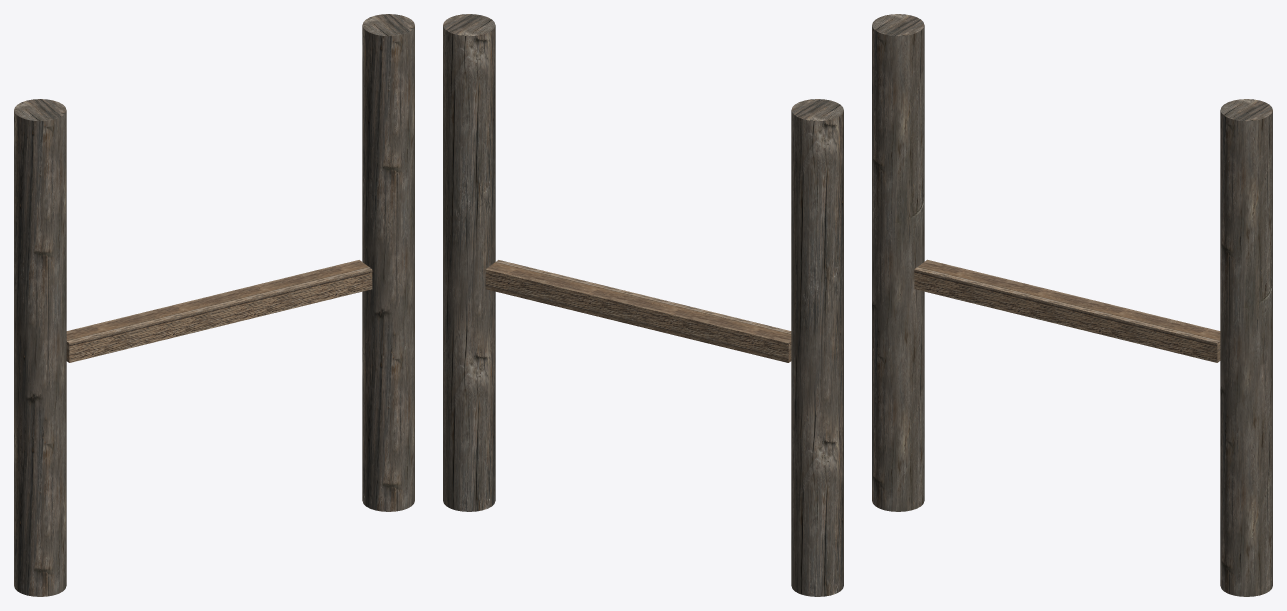
File: viga.fbx
3 renders of one model, left to right at view 1: azimuth 30°, elevation 25°; view 2: azimuth 150°, elevation 25°; view 3: azimuth 330°, elevation 25°, orthographic.
Visible parts, largest first — view 1: Viga; view 2: Viga; view 3: Viga.
Part boxes in pixels (<box>): Viga: <box>14,14,414,596</box>; Viga: <box>443,14,843,596</box>; Viga: <box>872,14,1272,596</box>.
Bounding box in the file's own units: 520 × 600 × 60.
Materials: 2 (2 with a texture image).
